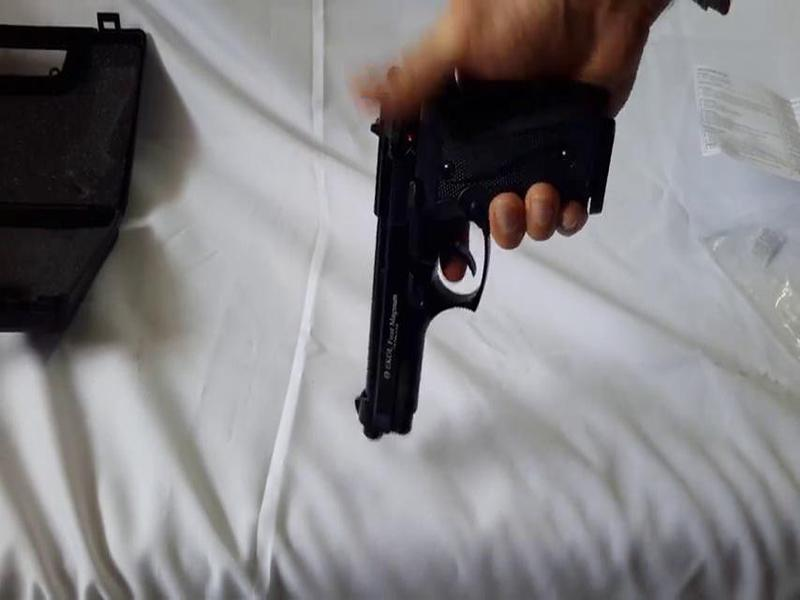Pistola: (359, 55, 635, 465)
